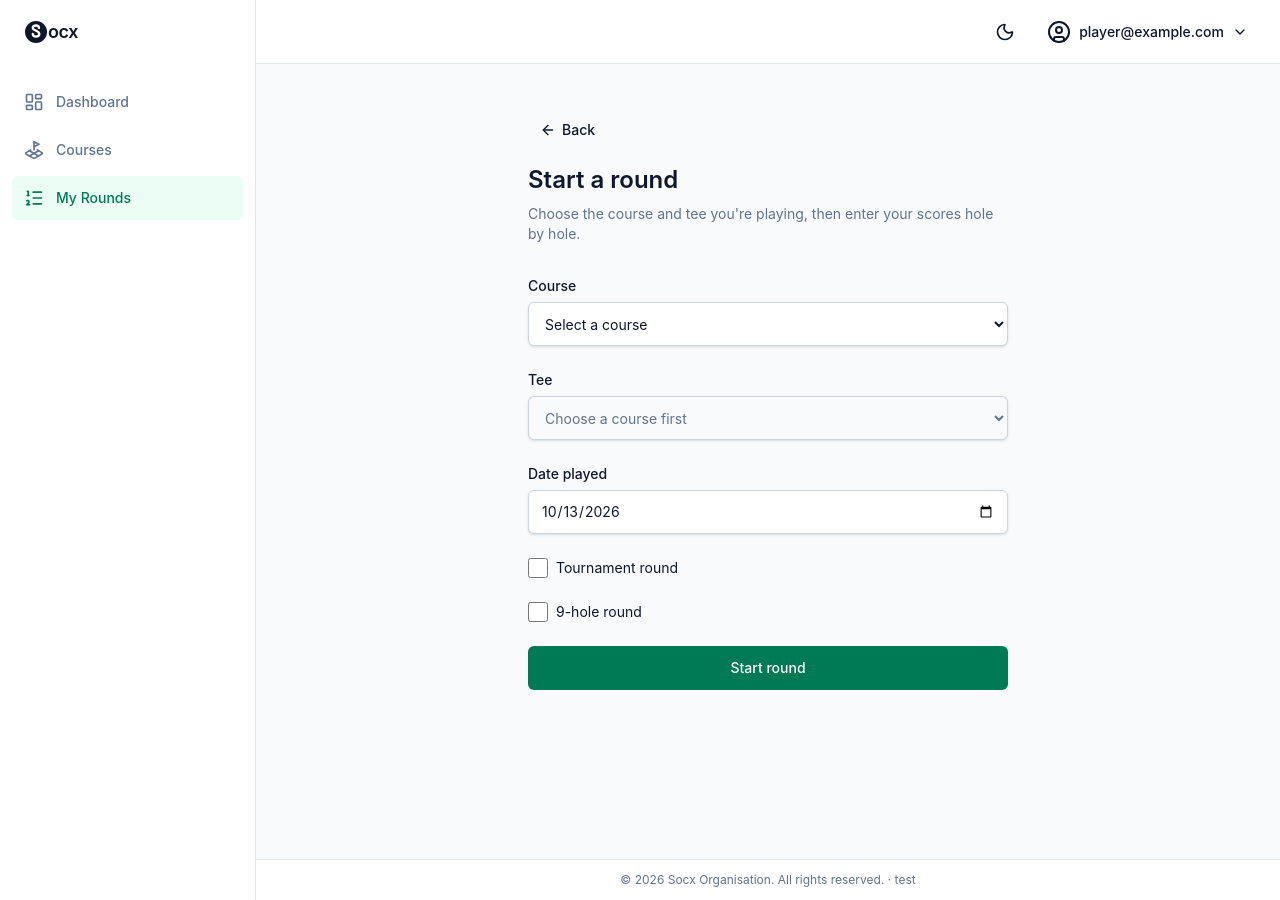
NewRoundPage › shows real feedback, not a silent no-op, when submitted before the player profile has loaded (review finding, PR #95)
Select "Test Links" in the dropdown labelled "Course" at [768, 324], box top-left (528, 302), bottom-right (1008, 346)
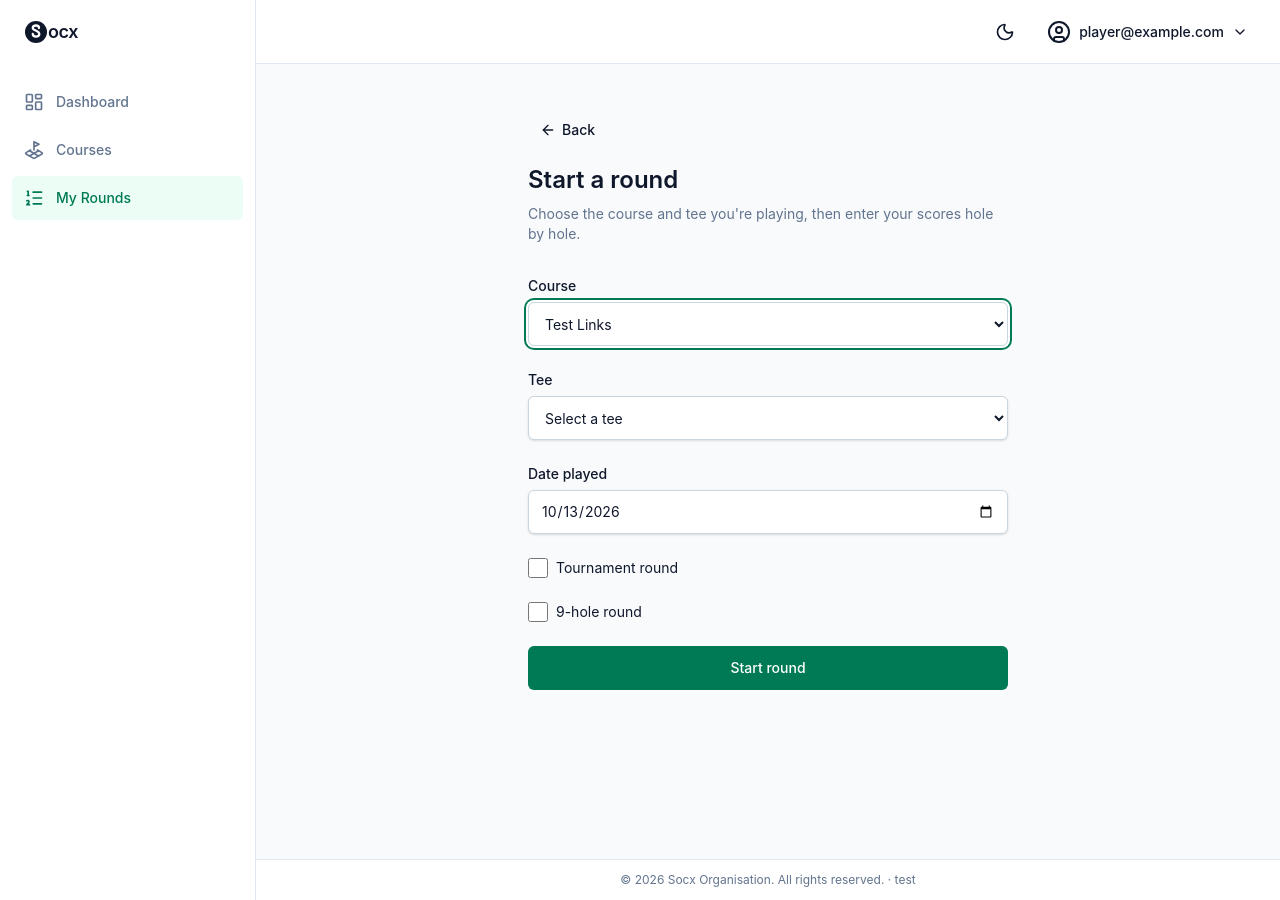
Now the dropdown labelled "Tee" is enabled
Select "White (18 holes)" in the dropdown labelled "Tee" at [768, 418], box top-left (528, 396), bottom-right (1008, 440)
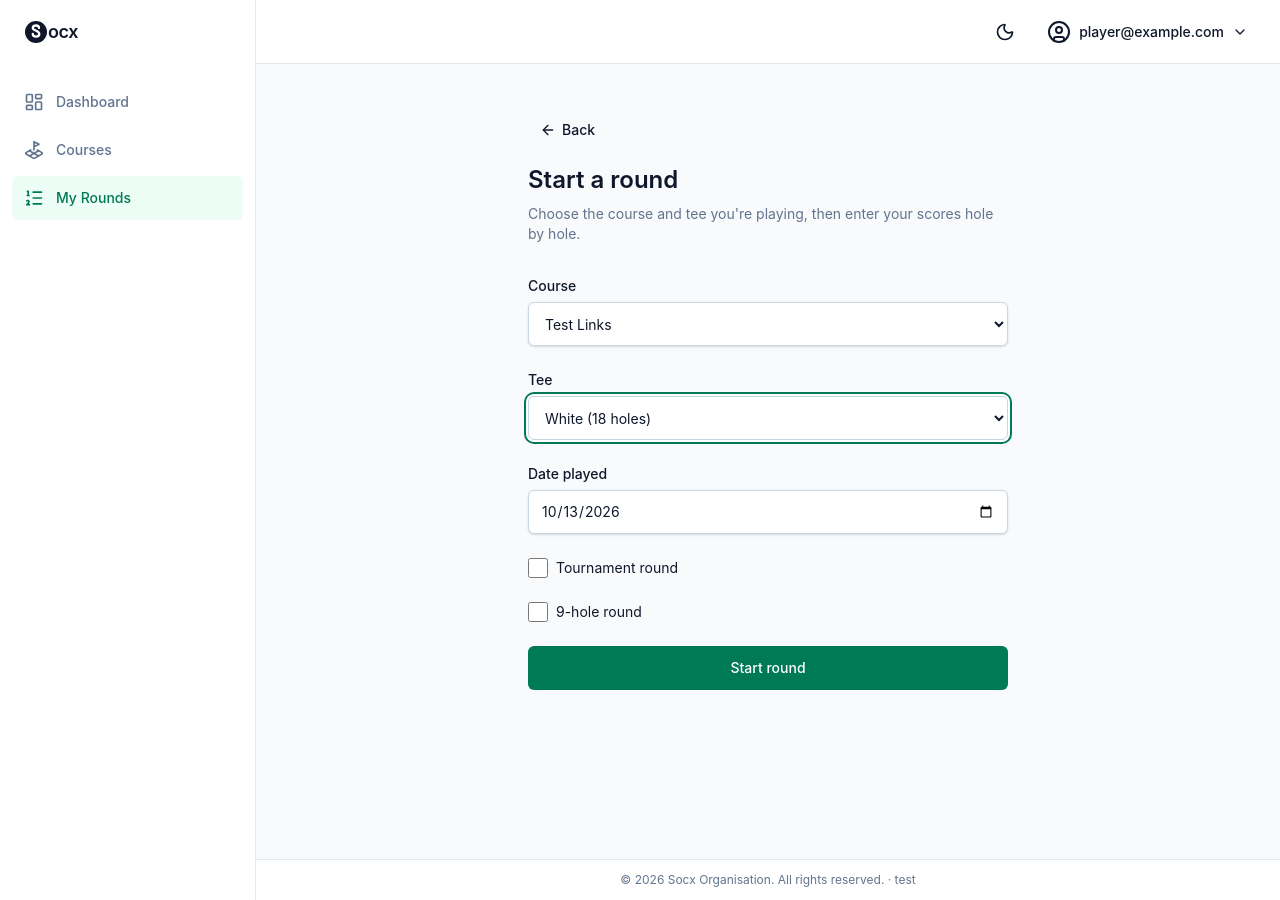
Click the button "Start round".
click(768, 668)  # box top-left (528, 646), bottom-right (1008, 690)
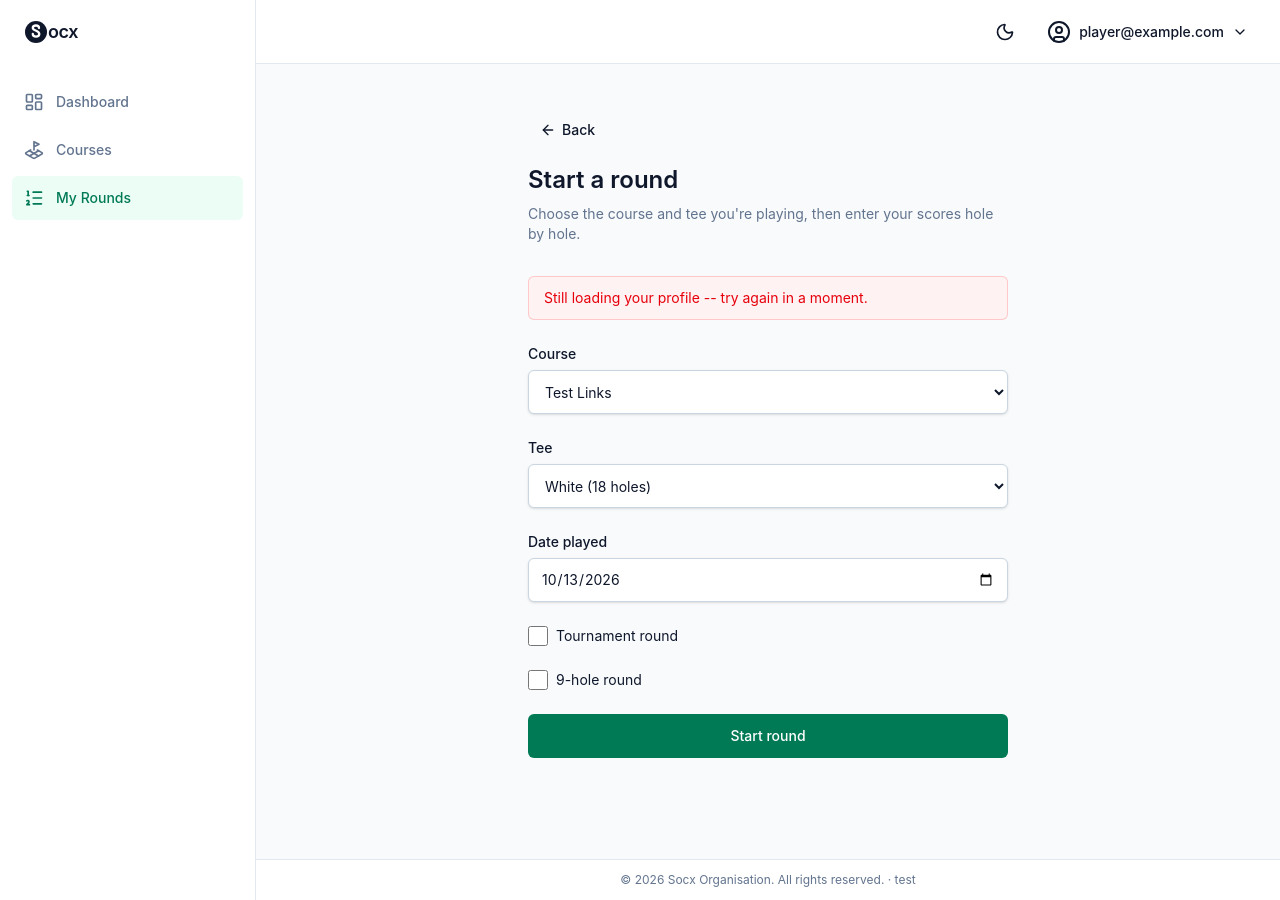
Now the message shows "Still loading your profile", box top-left (544, 289), bottom-right (868, 306)
